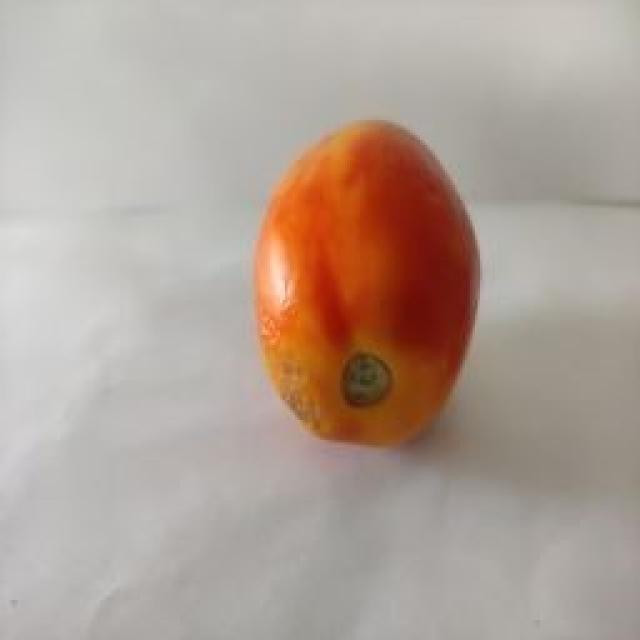Ripe: (250, 110, 488, 452)
